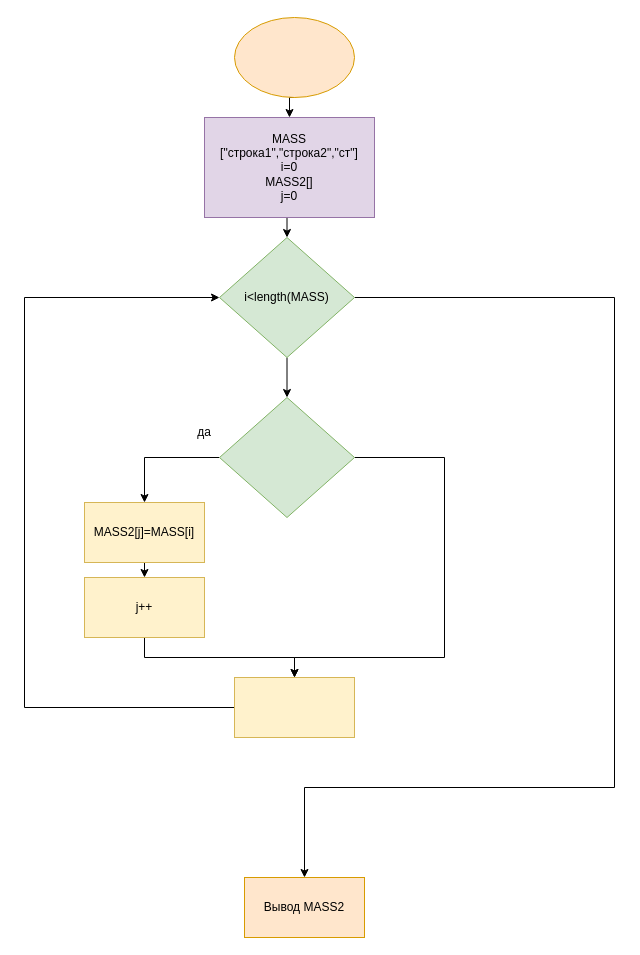
This 640x955 diagram has some shape labels left out. The centre of each missing label's shape, as x and y in pixels:
"i++" belongs at (x=294, y=707).
"length MASS[i]<=3" belongs at (x=286, y=457).
"Начало" belongs at (x=294, y=57).
